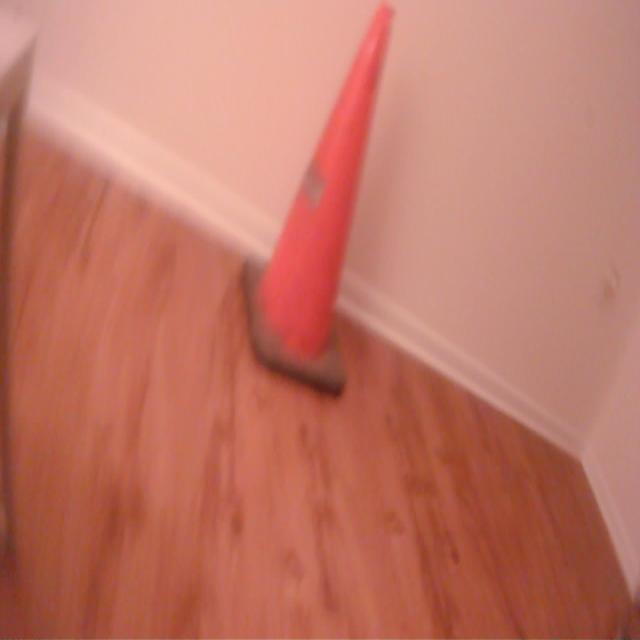traffic cone: (239, 2, 397, 409)
